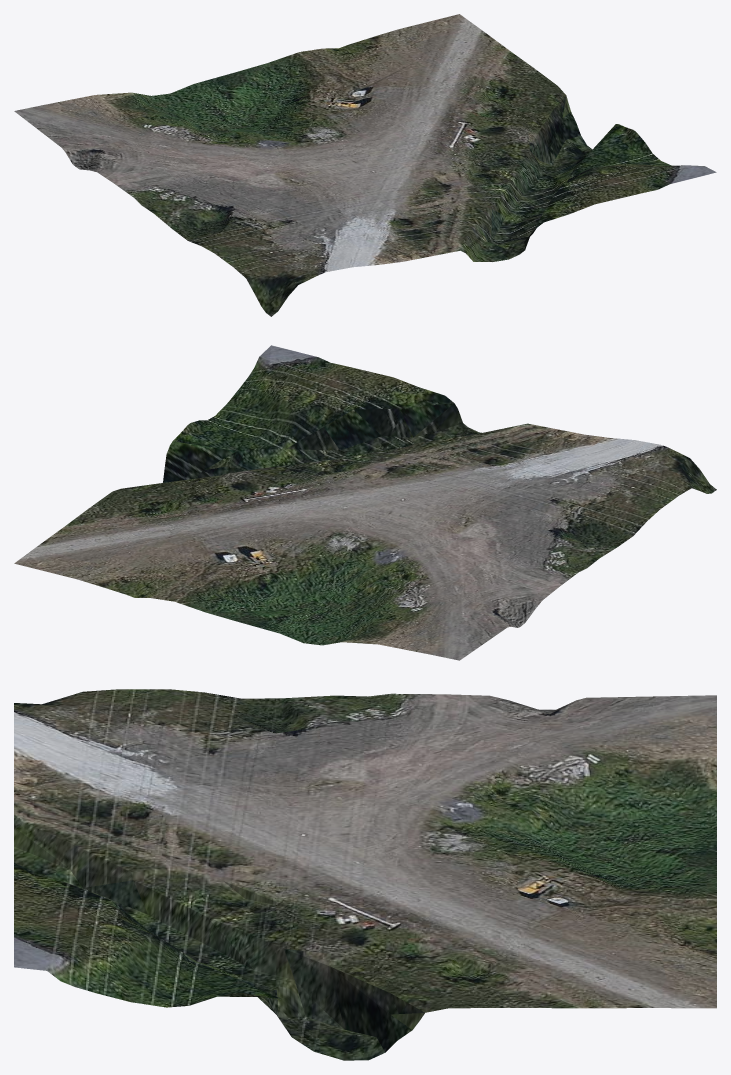
Rendered from map_15_8178_13778.dae.
3 views of the same model, one above another, from view 1: azimuth 30°, elevation 25°; view 2: azimuth 150°, elevation 25°; view 3: azimuth 270°, elevation 25° (orthographic). The views are drawn at different scales.
Visible parts, largest first — view 1: Ter0; view 2: Ter0; view 3: Ter0.
Part boxes in pixels (x1,y1,x2,y2): Ter0: (14, 14, 716, 316); Ter0: (14, 345, 716, 660); Ter0: (14, 689, 716, 1060).
Size of the model in its own units: 63.88 by 63.88 by 9.35.
Materials: 3 (3 with a texture image).
